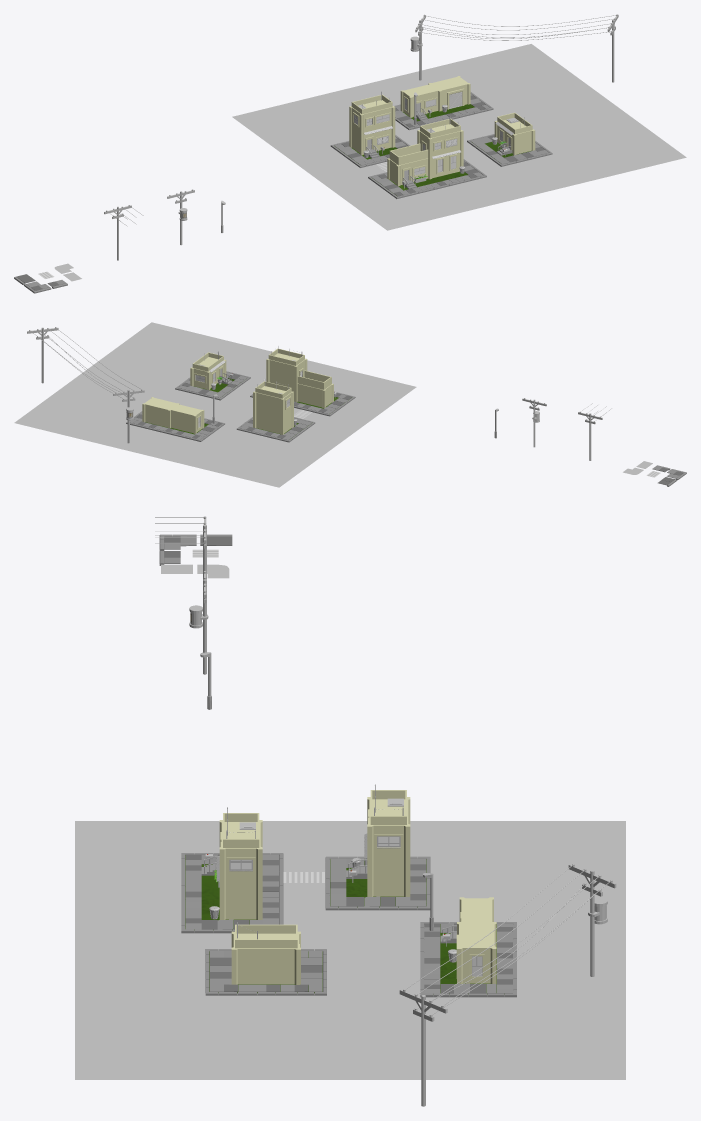
Rendered from House Type.fbx.
3 views of the same model, one above another, from view 1: azimuth 30°, elevation 25°; view 2: azimuth 150°, elevation 25°; view 3: azimuth 270°, elevation 25° (orthographic). The views are drawn at different scales.
Parts seen in each view (by area): view 1: Ground, Buildig.002, Buildig.001, Buildig.004, Buildig.003, Cable; view 2: Ground, Buildig.002, Buildig.001, Buildig.004, Buildig.003, Cable, Eletric (Pole) (Transformer), Eletric (Pole), Eletric (Pole) (Transformer).001; view 3: Ground, Buildig.002, Buildig.001, Buildig.004, Buildig.003, Cable, Eletric (Pole) (Transformer), Eletric (Pole).
Part boxes in pixels (x1,y1,x2,y2): Ground: (232,44,686,230); Buildig.002: (368,115,486,198); Buildig.001: (330,91,410,167); Buildig.004: (394,76,493,130); Buildig.003: (467,112,552,166); Cable: (417,15,615,40); Ground: (14,322,416,487); Buildig.002: (250,346,355,416); Buildig.001: (236,379,315,442); Buildig.004: (126,397,224,441); Buildig.003: (175,351,250,400); Cable: (30,328,140,398); Eletric (Pole) (Transformer): (113,389,144,443); Eletric (Pole): (27,327,58,383); Eletric (Pole) (Transformer).001: (522,398,546,447); Ground: (75,821,625,1079); Buildig.002: (181,807,283,933); Buildig.001: (325,784,430,910); Buildig.004: (420,897,516,997); Buildig.003: (205,922,326,995); Cable: (406,865,610,1014); Eletric (Pole) (Transformer): (568,863,616,976); Eletric (Pole): (399,988,447,1106).
Bounding box in the file's own units: 4214 × 375 × 1707.
